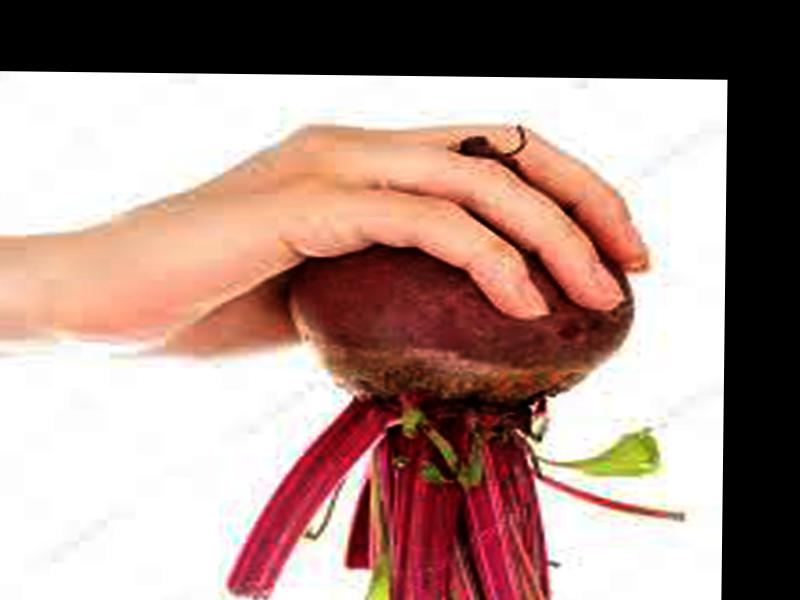Beet: (227, 130, 687, 600)
